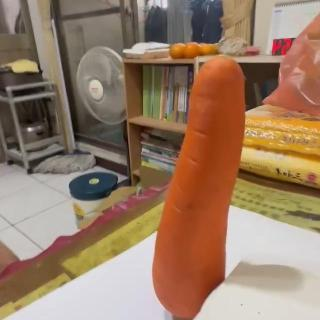carrot: (151, 55, 249, 319)
